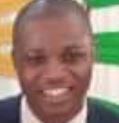without_facemask: (25, 69, 91, 116)
